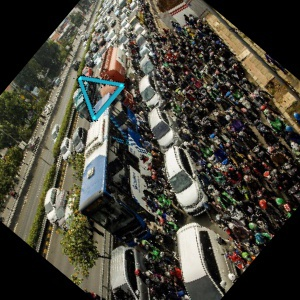triangle: (74, 71, 127, 124)
